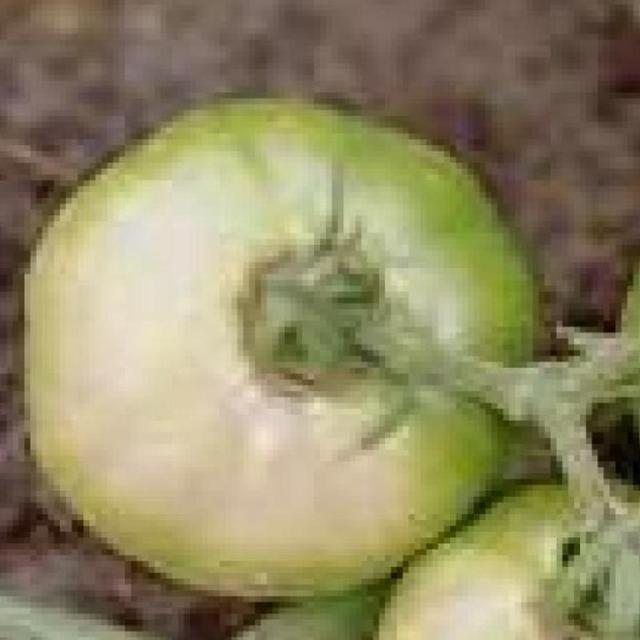Sunscald Fruit: (115, 70, 326, 390)
